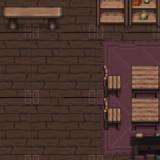Hide: (124, 131, 160, 160)
Obstacle: (0, 1, 67, 33), (126, 63, 160, 97), (95, 63, 128, 97), (95, 97, 128, 131), (127, 97, 160, 131), (96, 0, 129, 32), (129, 0, 160, 32)
